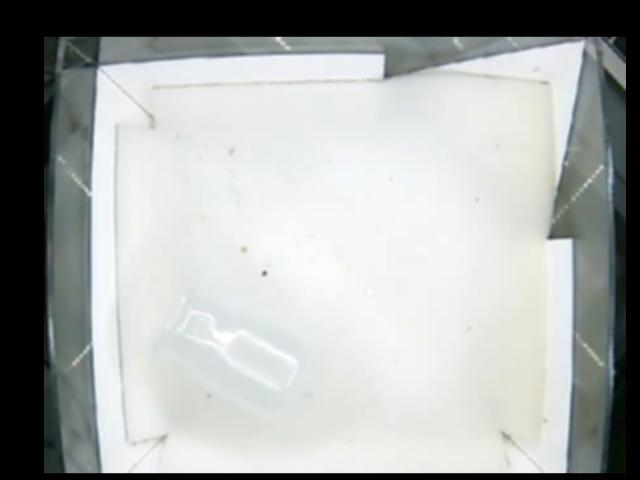Bottle: (149, 287, 316, 421)
